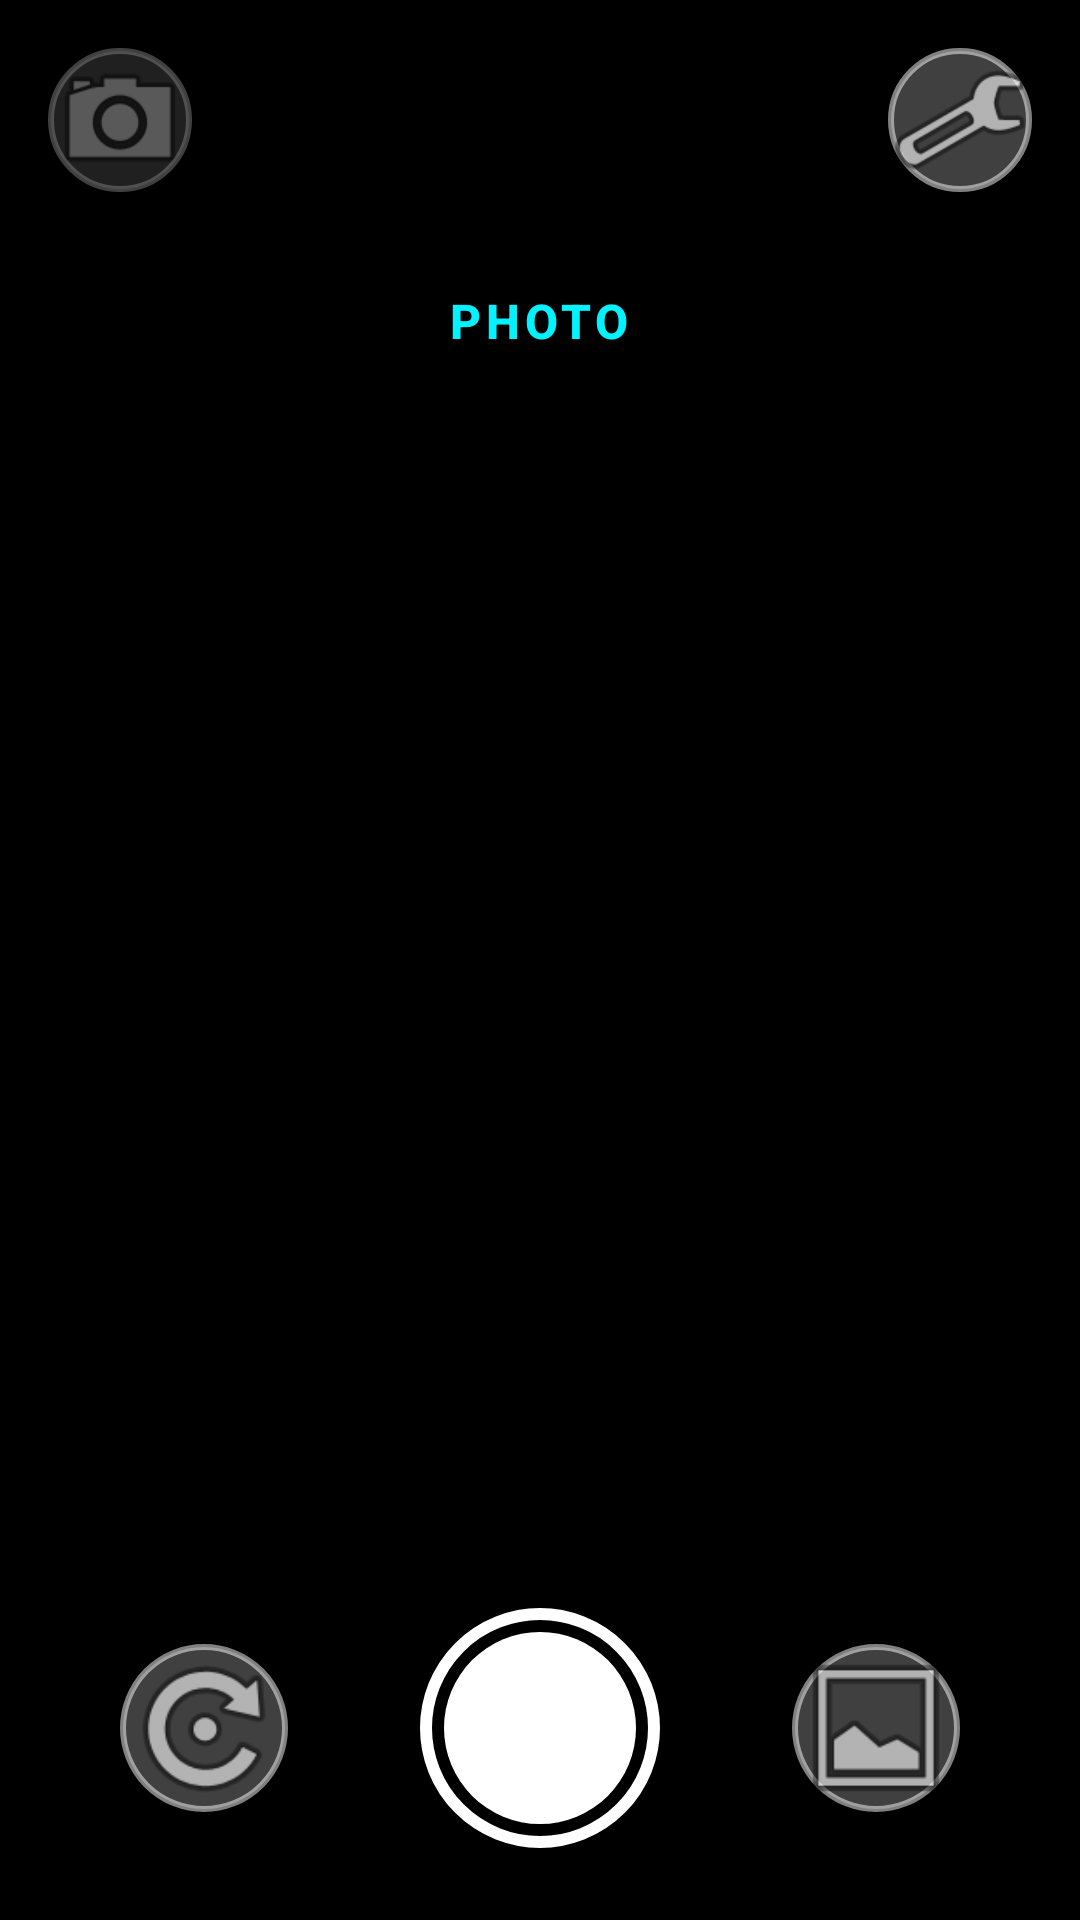

Where to tap for icons on this 1080 × 1920 app screen, as (x,y):
Gallery: (876,1728)
Settings: (960,120)
Switch Camera: (204,1728)
